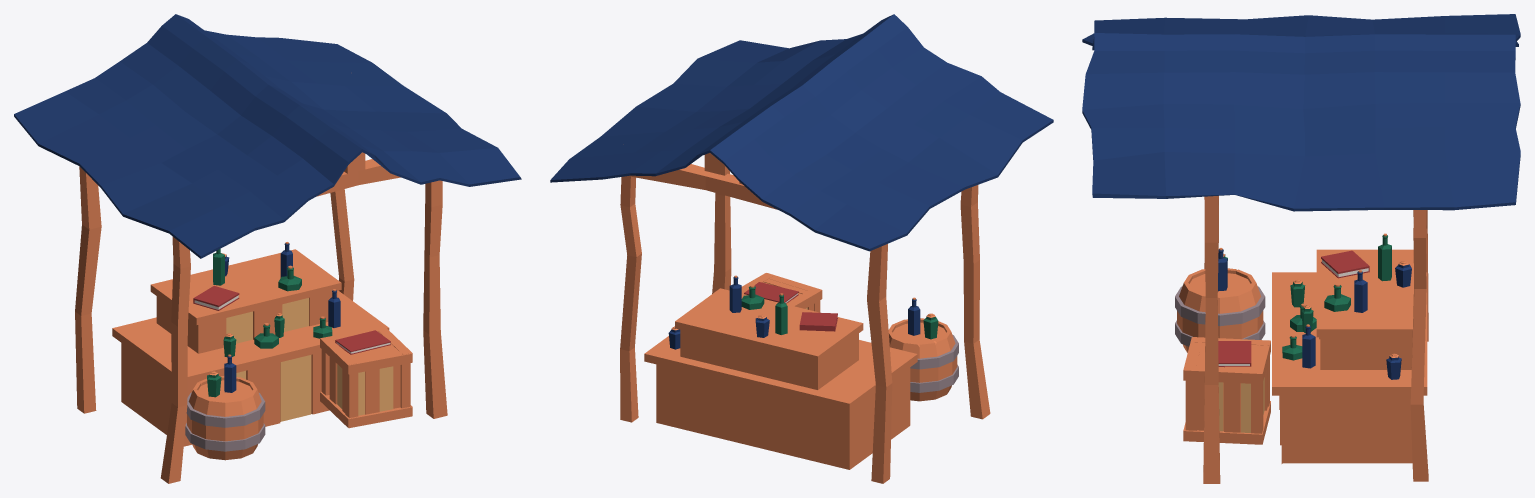
File: ShopTent1.fbx
3 renders of one model, left to right at view 1: azimuth 30°, elevation 25°; view 2: azimuth 150°, elevation 25°; view 3: azimuth 270°, elevation 25°, orthographic. The views are drawn at different scales.
Parts seen in each view (by area): view 1: ShopTent1; view 2: ShopTent1; view 3: ShopTent1.
Boxes of the visible parts, x1,y1,x2,y2 form: ShopTent1: (14, 14, 521, 483); ShopTent1: (550, 14, 1053, 483); ShopTent1: (1082, 14, 1520, 483).
Bounding box in the file's own units: 208 × 214 × 198.
